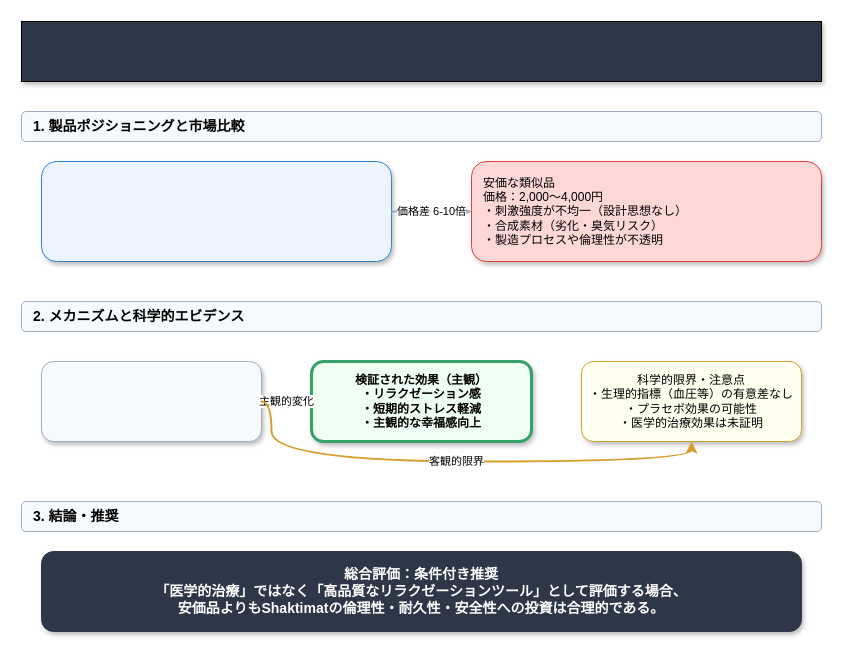
Some shapes in this 845 by 656 pixel diagram are drawn without their labels. The shapes that lost their labels are listed below. From the top down, each one's centre as x and y in pixels, then its label:
the point at 422,52: シャクティマット（Shaktimat）包括的レビュー：効能・価格・市場比較
the point at 217,212: 本家：シャクティマット 価格：約23,000円 ・倫理的製造（フェアトレード） ・強度設計（スパイク数制御） ・高耐久素材（ABS樹脂・オーガニック）
the point at 152,402: 作用機序：広域体表刺激 （鍼治療とは別物） ・Aβ線維（触圧覚）を刺激 ・ゲートコントロール理論の応用
